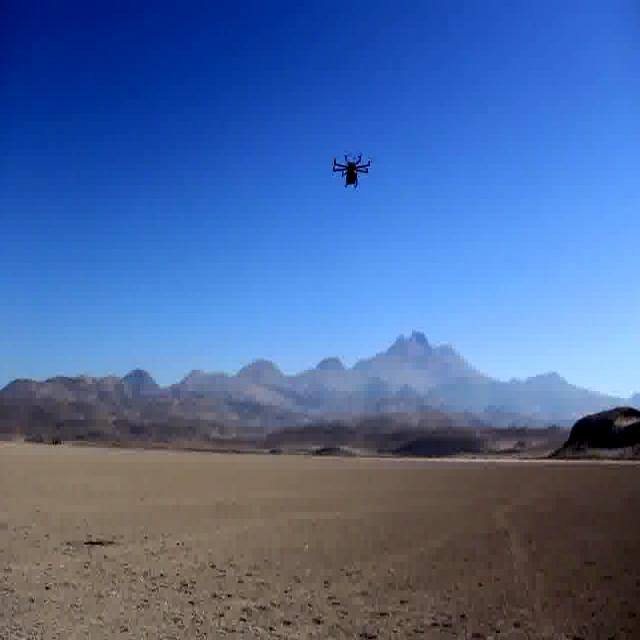drone: (332, 148, 372, 192)
